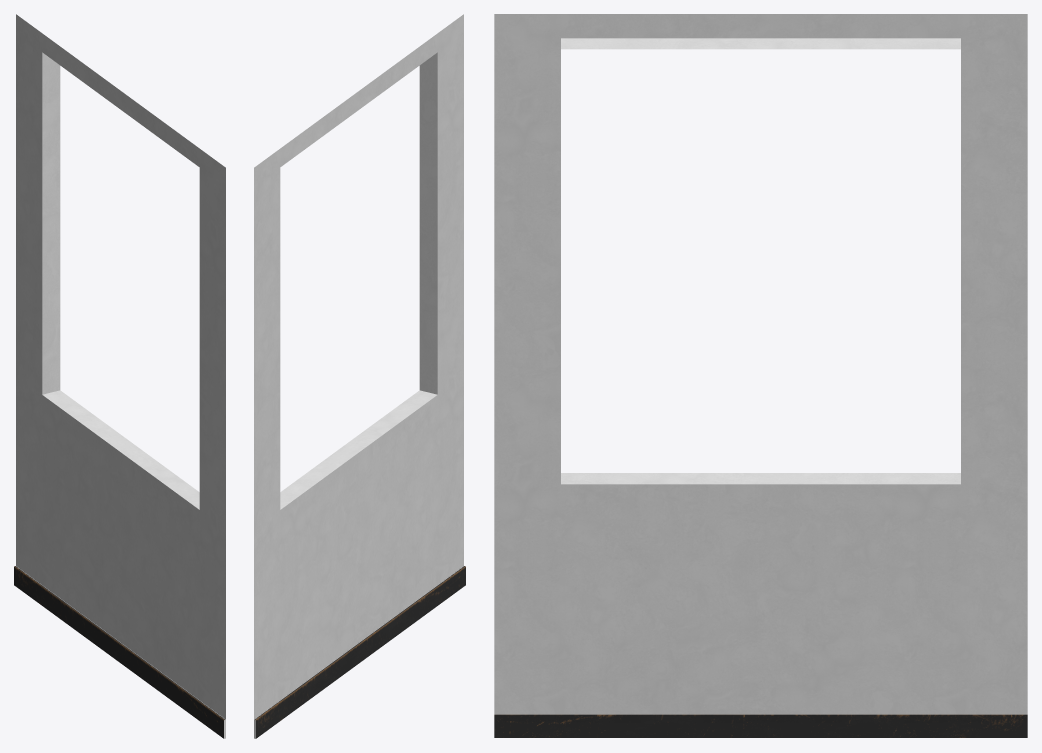
Rendered from SM_InteriorWall_01_200_Window.fbx.
The picture shows the model from 3 angles, left to right: view 1: azimuth 30°, elevation 25°; view 2: azimuth 150°, elevation 25°; view 3: azimuth 270°, elevation 25°; orthographic projection. The views are drawn at different scales.
Visible parts, largest first — view 1: SM_InteriorWall_01_200_Window_LOD0; view 2: SM_InteriorWall_01_200_Window_LOD0; view 3: SM_InteriorWall_01_200_Window_LOD0.
Boxes of the visible parts, x1,y1,x2,y2 form: SM_InteriorWall_01_200_Window_LOD0: [14, 14, 225, 738]; SM_InteriorWall_01_200_Window_LOD0: [254, 14, 465, 738]; SM_InteriorWall_01_200_Window_LOD0: [494, 14, 1027, 737].
Size of the model in its own units: 11 by 200 by 300.
